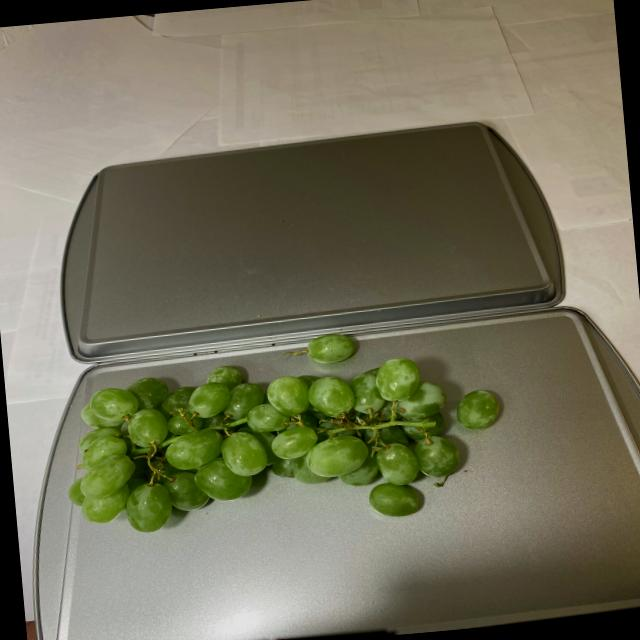grapes: (64, 324, 510, 543)
